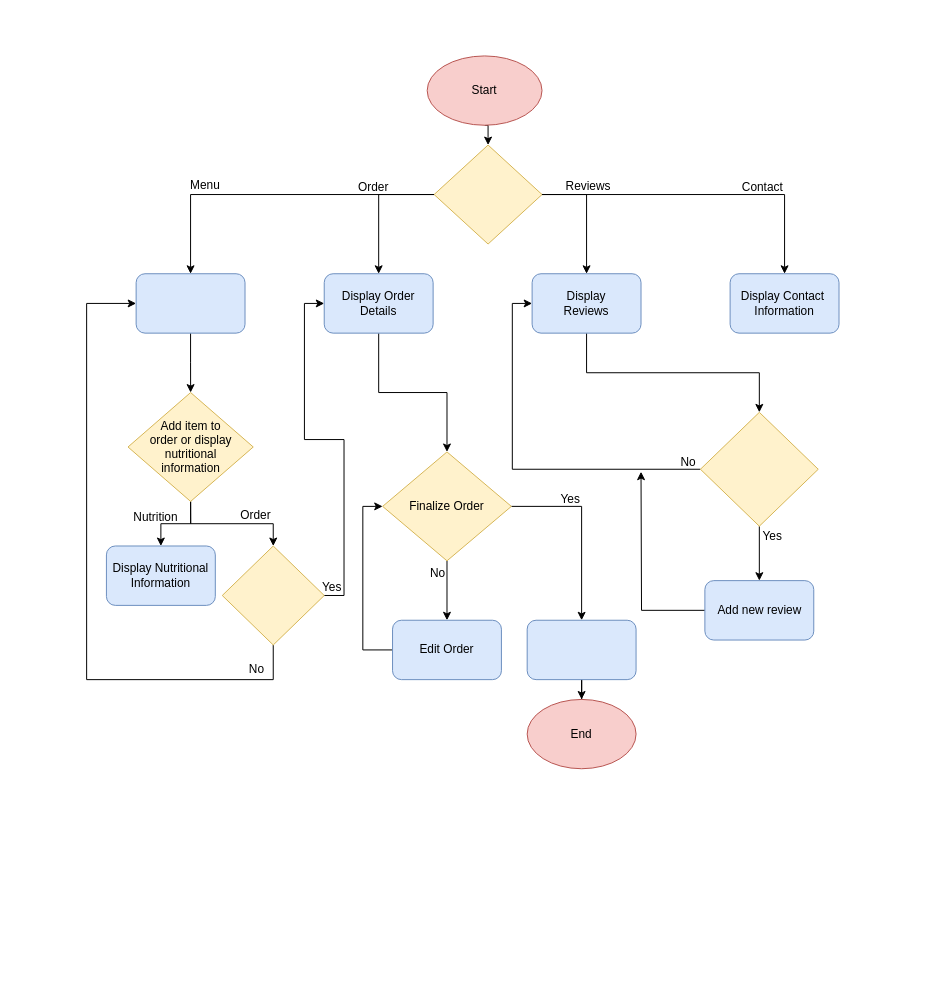
Some shapes in this 944 by 984 pixel diagram are drawn without their labels. The centre of each missing label's shape, as x and y in pixels:
Add review: the point at 758,468
Display Menu: the point at 190,303
Display Order Confirmation: the point at 581,649
Menu Order Reviews Contact: the point at 487,194
Review Order: the point at 272,595
